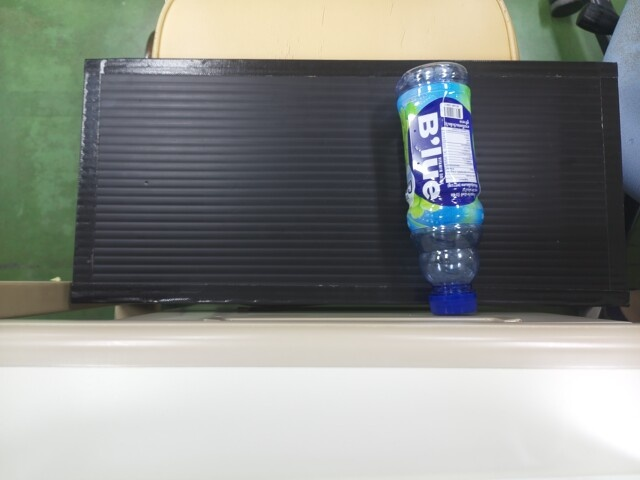plastic_bottle: (398, 59, 482, 306)
